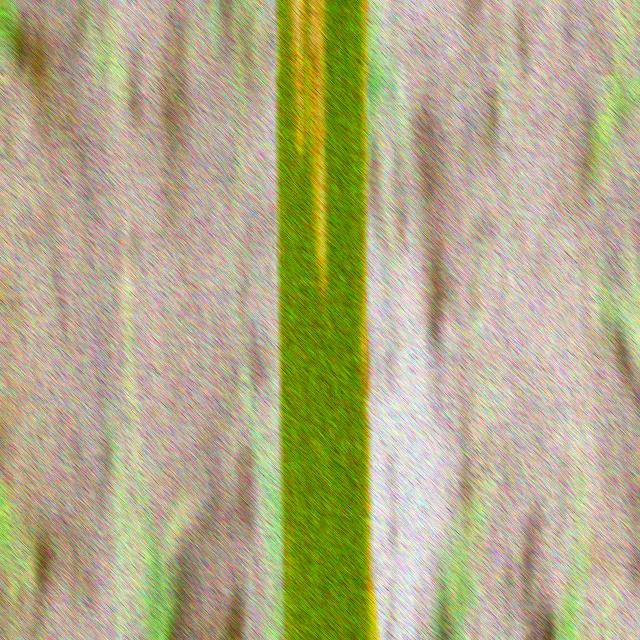BLS: (308, 0, 326, 282), (292, 0, 304, 154)
